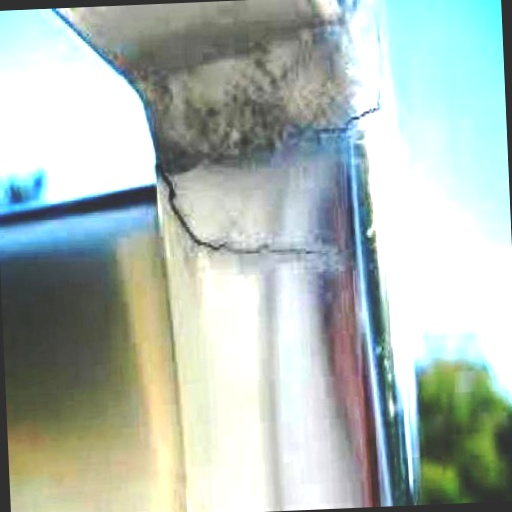crack: (156, 166, 318, 265), (312, 18, 391, 155)
